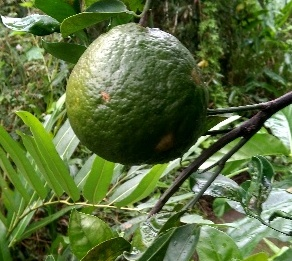Cam: (61, 20, 211, 166)
